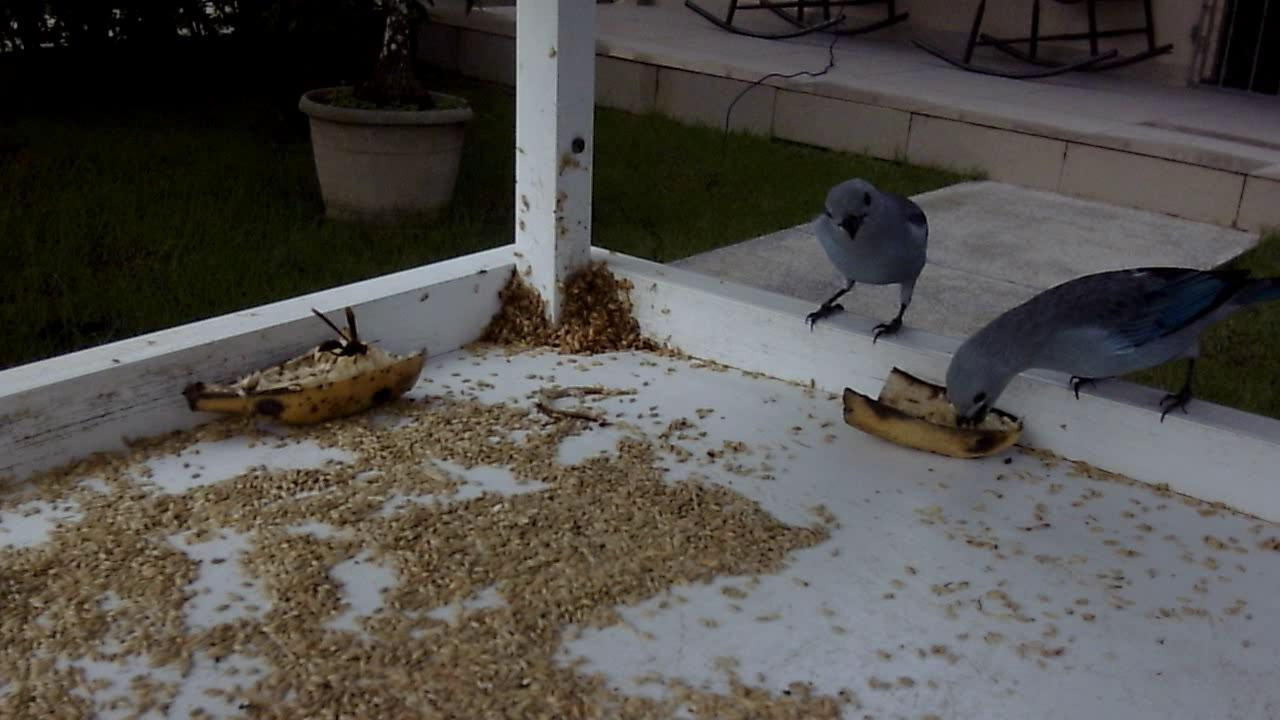sanhaco_da_amazonia: (937, 237, 1276, 439), (794, 170, 939, 348)
